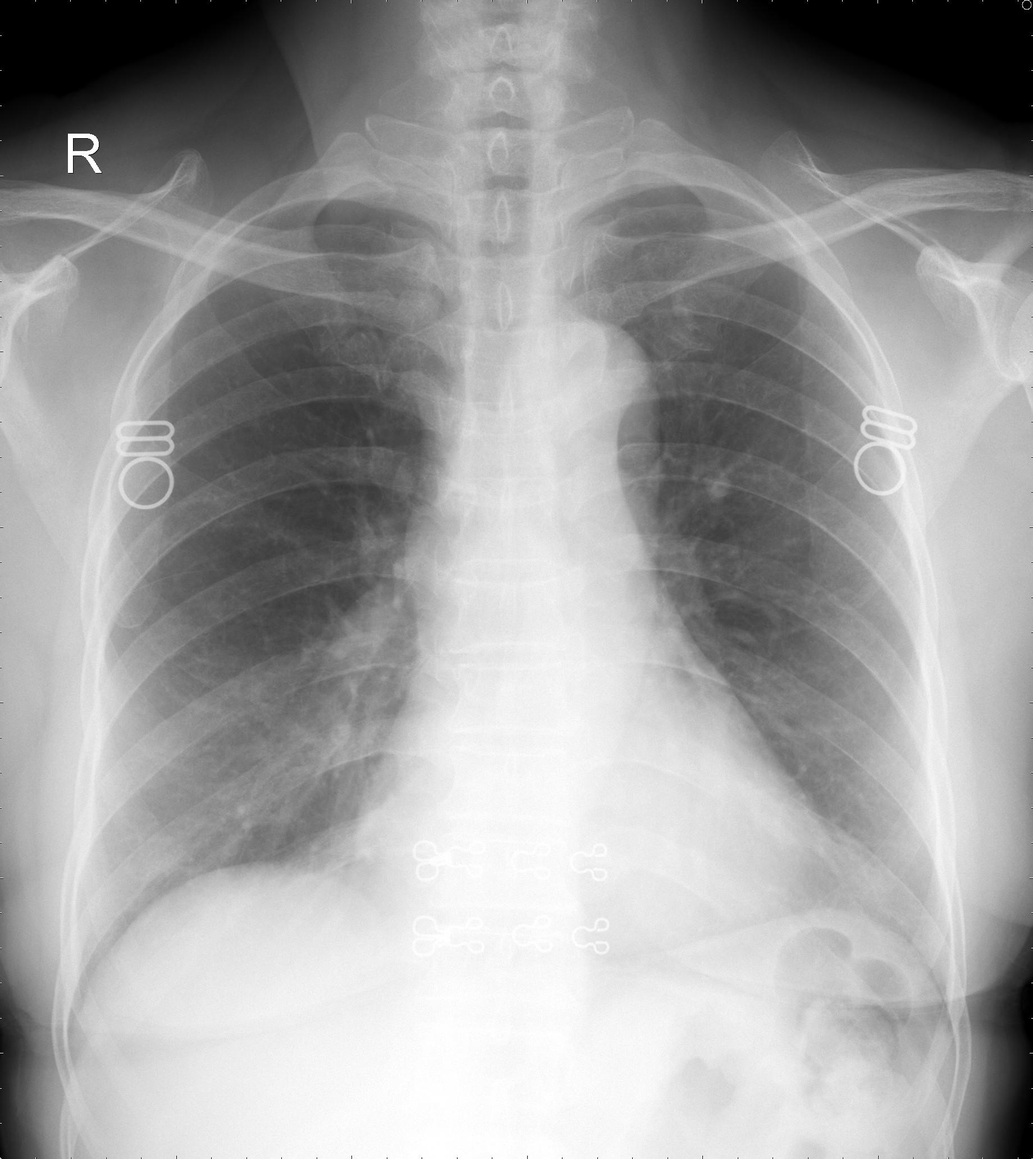Aortic enlargement: (494, 320, 659, 457)
Cardiomegaly: (332, 758, 862, 933)
